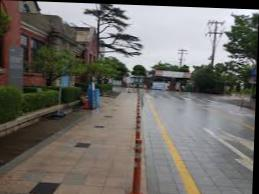Animal: (124, 135, 152, 194)
